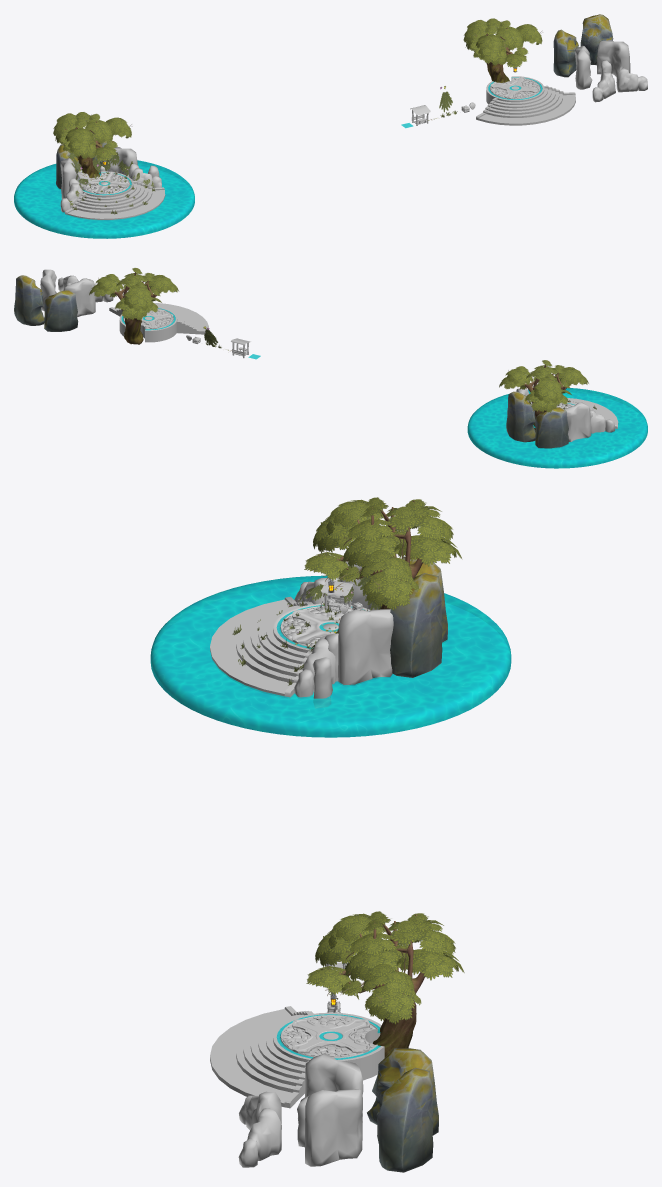
3 renders of one model, top to bottom at view 1: azimuth 30°, elevation 25°; view 2: azimuth 150°, elevation 25°; view 3: azimuth 270°, elevation 25°, orthographic. The views are drawn at different scales.
Parts seen in each view (by area): view 1: FountainDiorama_Example, F_Base, F_TreeLeaves, F_Rock7, F_Rock6, F_Rock5, F_Rock4, F_Rock2, F_Rock1, F_TreeTrunk; view 2: FountainDiorama_Example, F_TreeLeaves, F_Base, F_Rock7, F_Rock6, F_Rock4, F_TreeTrunk, F_Rock5; view 3: FountainDiorama_Example, F_Base, F_TreeLeaves, F_Rock7, F_Rock5, F_Rock6, F_Rock4, F_TreeTrunk, F_Rock2, F_Rock1.
Boxes of the visible parts, x1,y1,x2,y2 form: FountainDiorama_Example: (14,112,194,238); F_Base: (476,76,575,125); F_TreeLeaves: (463,18,542,68); F_Rock7: (580,14,613,65); F_Rock6: (553,29,578,77); F_Rock5: (597,40,630,76); F_Rock4: (575,45,592,89); F_Rock2: (616,67,647,92); F_Rock1: (592,72,615,102); F_TreeTrunk: (476,21,523,82); FountainDiorama_Example: (467,360,647,468); F_TreeLeaves: (89,267,178,320); F_Base: (109,303,208,342); F_Rock7: (14,275,44,325); F_Rock6: (44,290,78,331); F_Rock4: (63,278,95,317); F_TreeTrunk: (113,269,159,344); F_Rock5: (40,269,56,311); FountainDiorama_Example: (150,497,511,737); F_Base: (210,1006,384,1108); F_TreeLeaves: (306,911,464,1024); F_Rock7: (376,1067,433,1172); F_Rock5: (305,1089,362,1166); F_Rock6: (367,1048,438,1135); F_Rock4: (305,1053,363,1118); F_TreeTrunk: (321,914,425,1057); F_Rock2: (238,1108,281,1167); F_Rock1: (239,1091,281,1130).
Size of the model in its own units: 14624 by 1815 by 3783.
